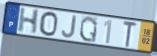1: (103, 19, 113, 45)
H: (17, 7, 41, 35)
J: (61, 14, 78, 39)
O: (39, 11, 59, 37)
Q: (79, 15, 99, 44)
T: (122, 20, 138, 49)
